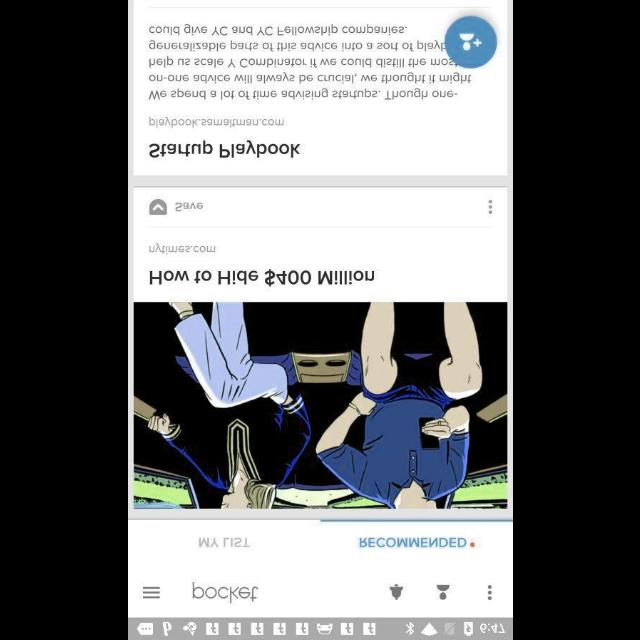button: (445, 16, 497, 68)
icon: (148, 199, 168, 215), (389, 582, 403, 600), (142, 586, 160, 600), (435, 584, 449, 598), (488, 199, 492, 215), (487, 584, 491, 598)
image: (134, 302, 506, 508), (471, 543, 474, 545)
panel: (132, 185, 508, 510), (132, 1, 506, 176)
text: (148, 22, 472, 100), (149, 268, 373, 284), (148, 140, 300, 158), (148, 116, 284, 128), (192, 581, 258, 603), (358, 537, 466, 547), (149, 243, 215, 255), (198, 536, 250, 548), (175, 202, 203, 212)
uppertaskbar: (128, 617, 512, 639)
